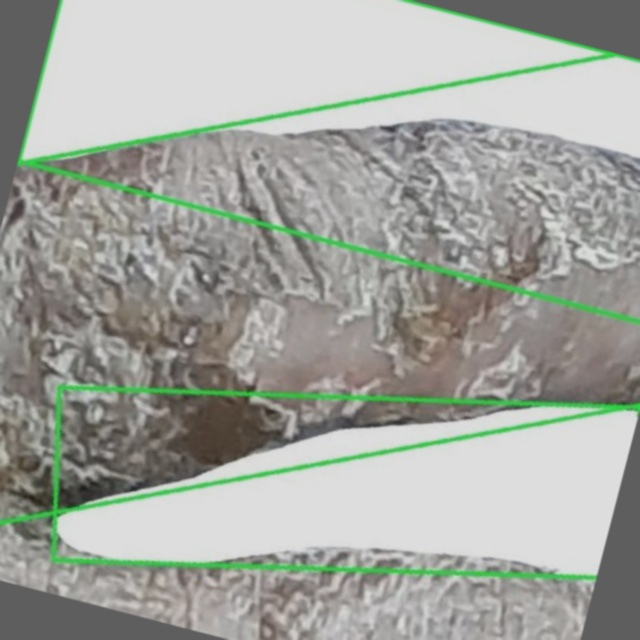Eczema: (0, 60, 639, 521), (19, 0, 639, 321), (53, 388, 638, 571)
